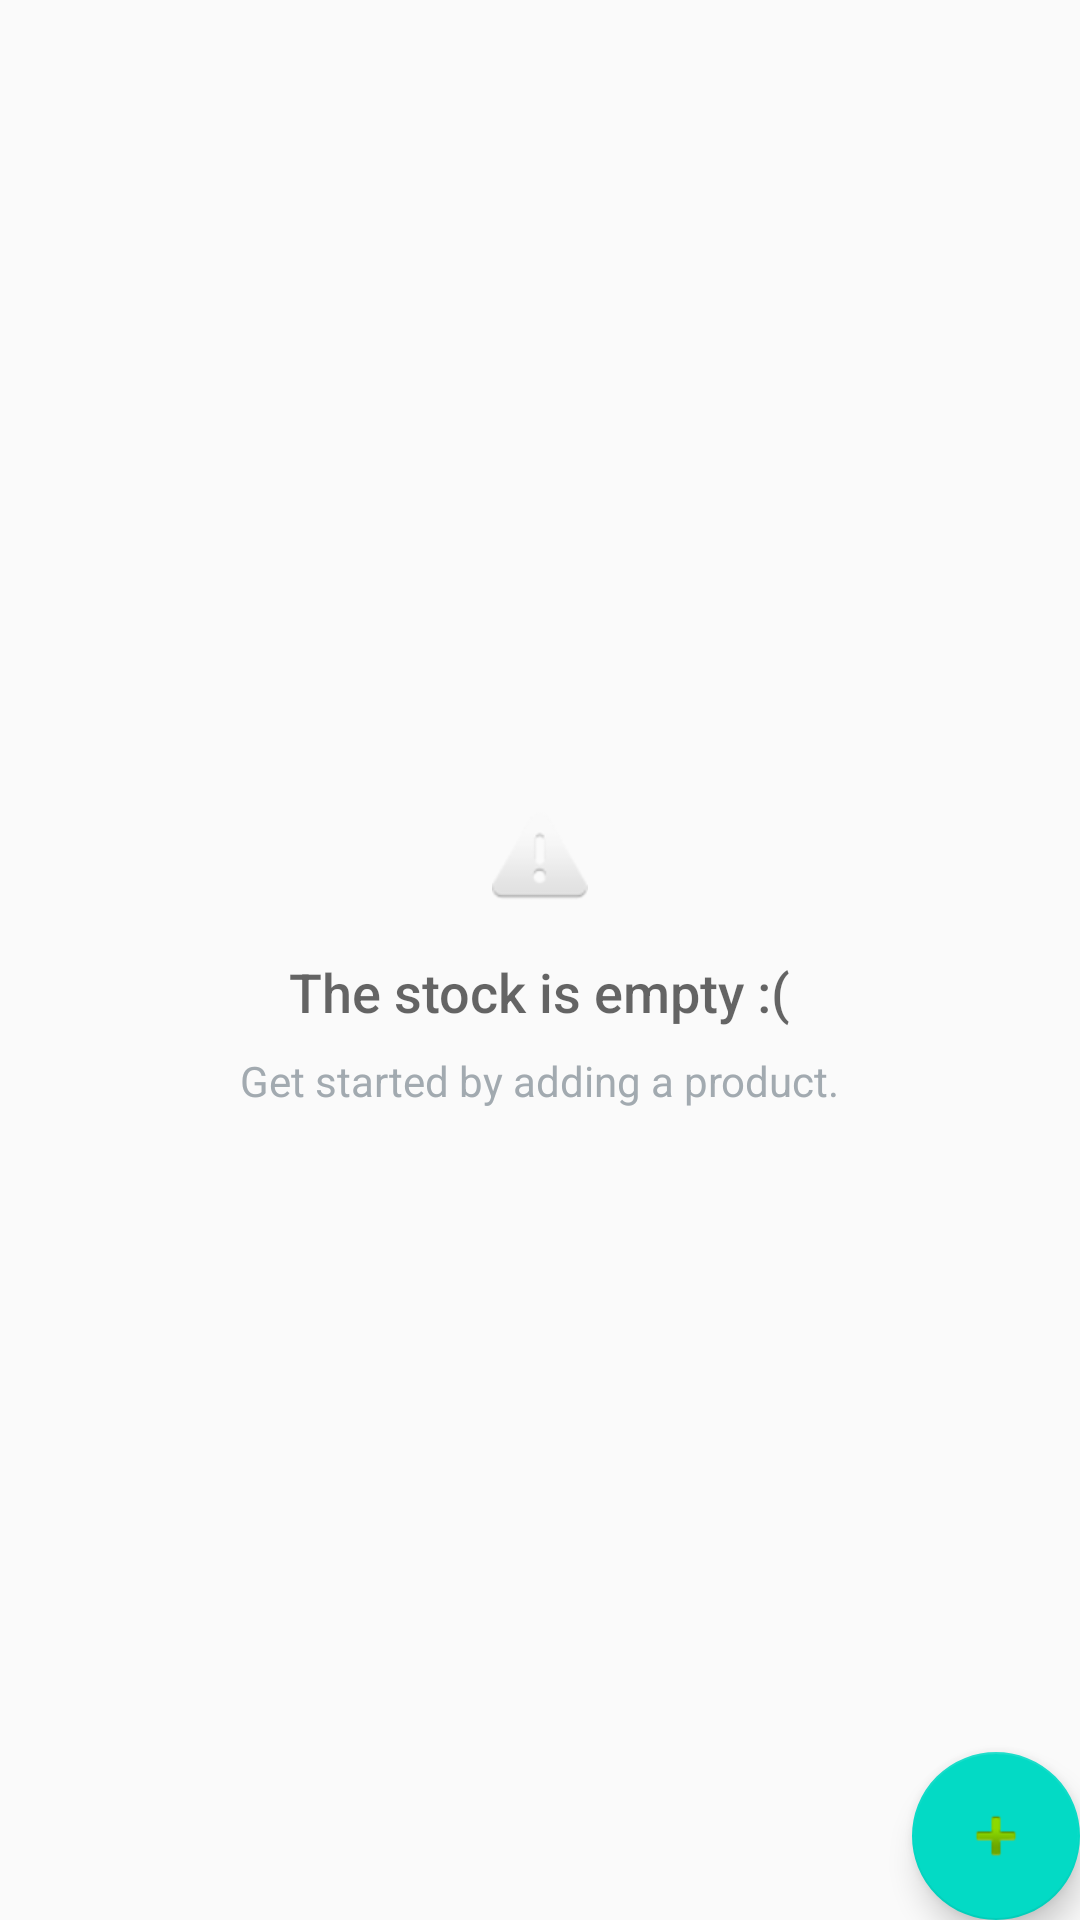

Named icons in this screenshot (1080×1920) and their bounding boxes, (x1, y1, x2, y2):
add: (912, 1752, 1080, 1920)
alert: (492, 834, 586, 898)
